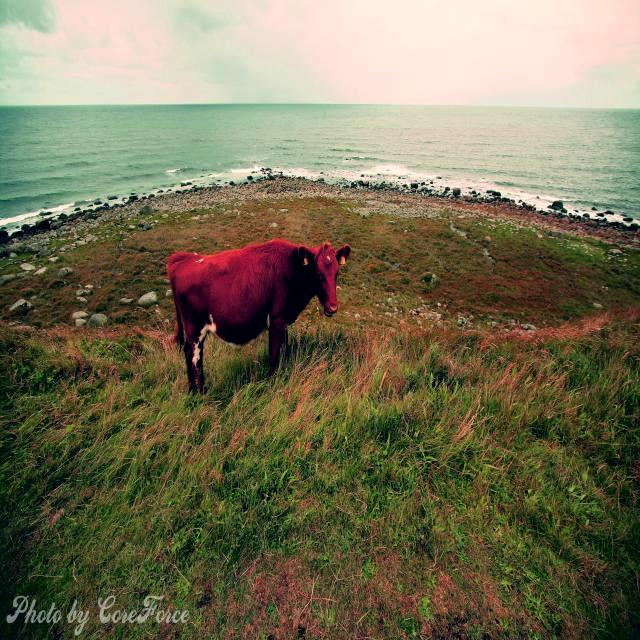COW: (168, 240, 351, 392)
